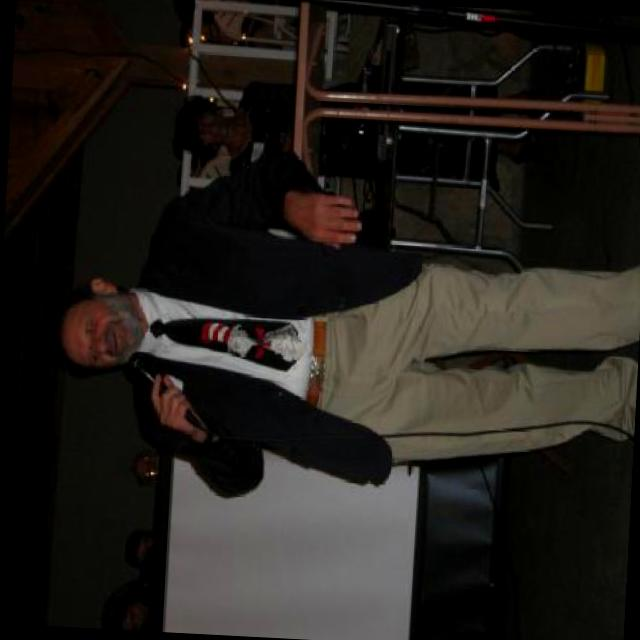Person: (46, 134, 640, 520), (170, 60, 508, 196), (100, 596, 154, 630), (121, 530, 152, 566), (132, 451, 158, 483)
